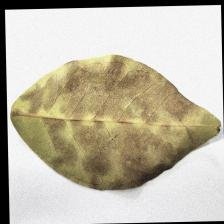canker: (42, 81, 170, 155)
